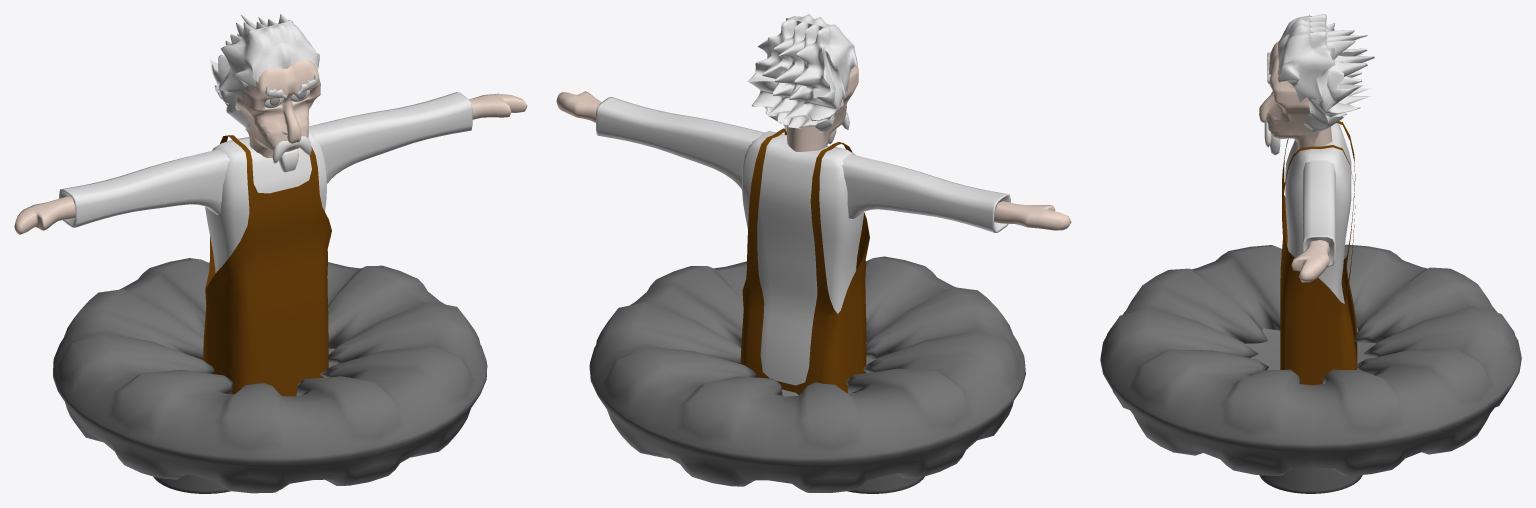
File: dorkwithidle.fbx
3 views of the same model, side by side, from view 1: azimuth 30°, elevation 25°; view 2: azimuth 150°, elevation 25°; view 3: azimuth 270°, elevation 25° (orthographic). The views are drawn at different scales.
Parts seen in each view (by area): view 1: Saucer, Apron, RightArm, LeftArm, Body, Hair, Face, RightHand, LeftHand, Rocket2; view 2: Saucer, Body, Apron, Hair, RightArm, LeftArm, RightHand, Face, LeftHand, Rocket2; view 3: Saucer, Apron, Hair, Body, Face, LeftArm, Rocket1, LeftHand.
Boxes of the visible parts, x1,y1,x2,y2 form: Saucer: (53,258,487,493); Apron: (203,135,331,396); RightArm: (59,149,230,227); LeftArm: (308,92,472,183); Body: (205,131,326,272); Hair: (209,14,319,129); Face: (236,59,320,157); RightHand: (14,196,75,234); LeftHand: (469,93,527,119); Rocket2: (153,474,230,493); Saucer: (589,256,1025,492); Body: (742,131,863,396); Apron: (740,128,869,394); Hair: (747,14,857,132); RightArm: (842,154,1010,232); LeftArm: (596,97,764,188); RightHand: (994,201,1071,230); Face: (783,58,858,151); LeftHand: (556,91,601,122); Rocket2: (848,474,924,493); Saucer: (1100,244,1521,475); Apron: (1280,121,1357,385); Hair: (1277,14,1374,131); Body: (1285,123,1351,303); Face: (1259,41,1332,149); LeftArm: (1303,160,1335,266); Rocket1: (1259,467,1362,493); LeftHand: (1291,240,1330,282).
Bounding box in the file's own units: 23.65 × 19.21 × 17.46.
